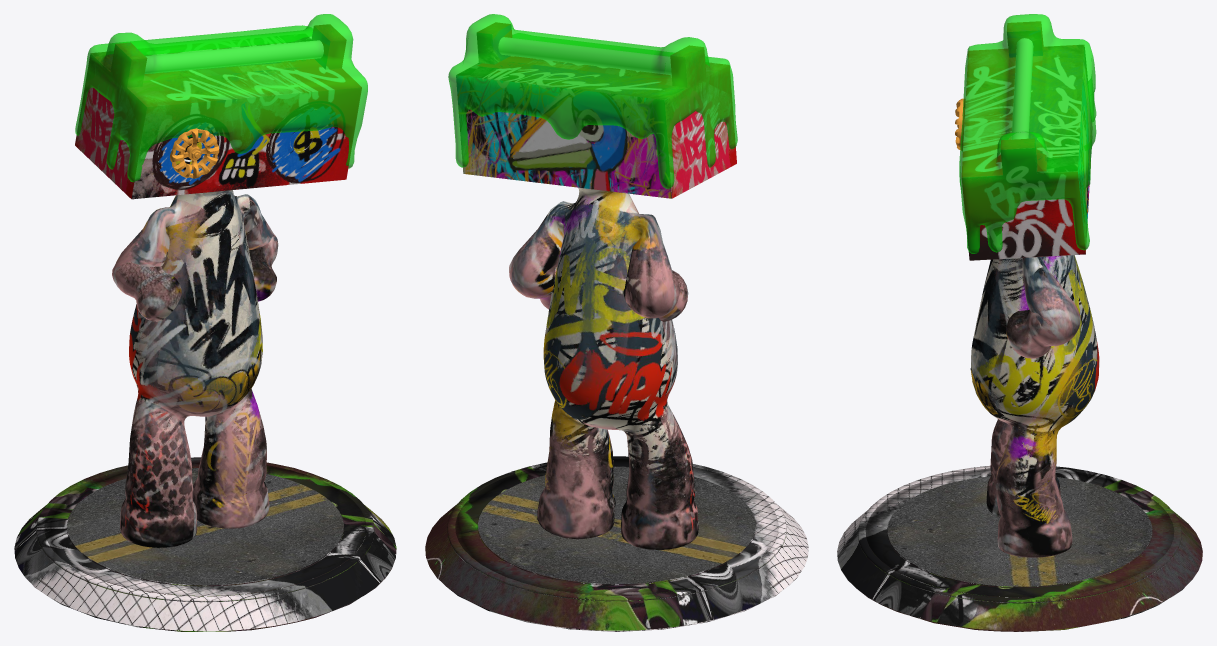
3 renders of one model, left to right at view 1: azimuth 30°, elevation 25°; view 2: azimuth 150°, elevation 25°; view 3: azimuth 270°, elevation 25°, orthographic. The views are drawn at different scales.
Parts seen in each view (by area): view 1: BBody; view 2: BBody; view 3: BBody.
Part boxes in pixels (bbox=[...]): BBody: bbox=[14, 14, 396, 631]; BBody: bbox=[425, 14, 808, 631]; BBody: bbox=[837, 14, 1202, 631].
Size of the model in its own units: 1.45 by 2.21 by 1.45.
Materials: 6 (5 with a texture image).
